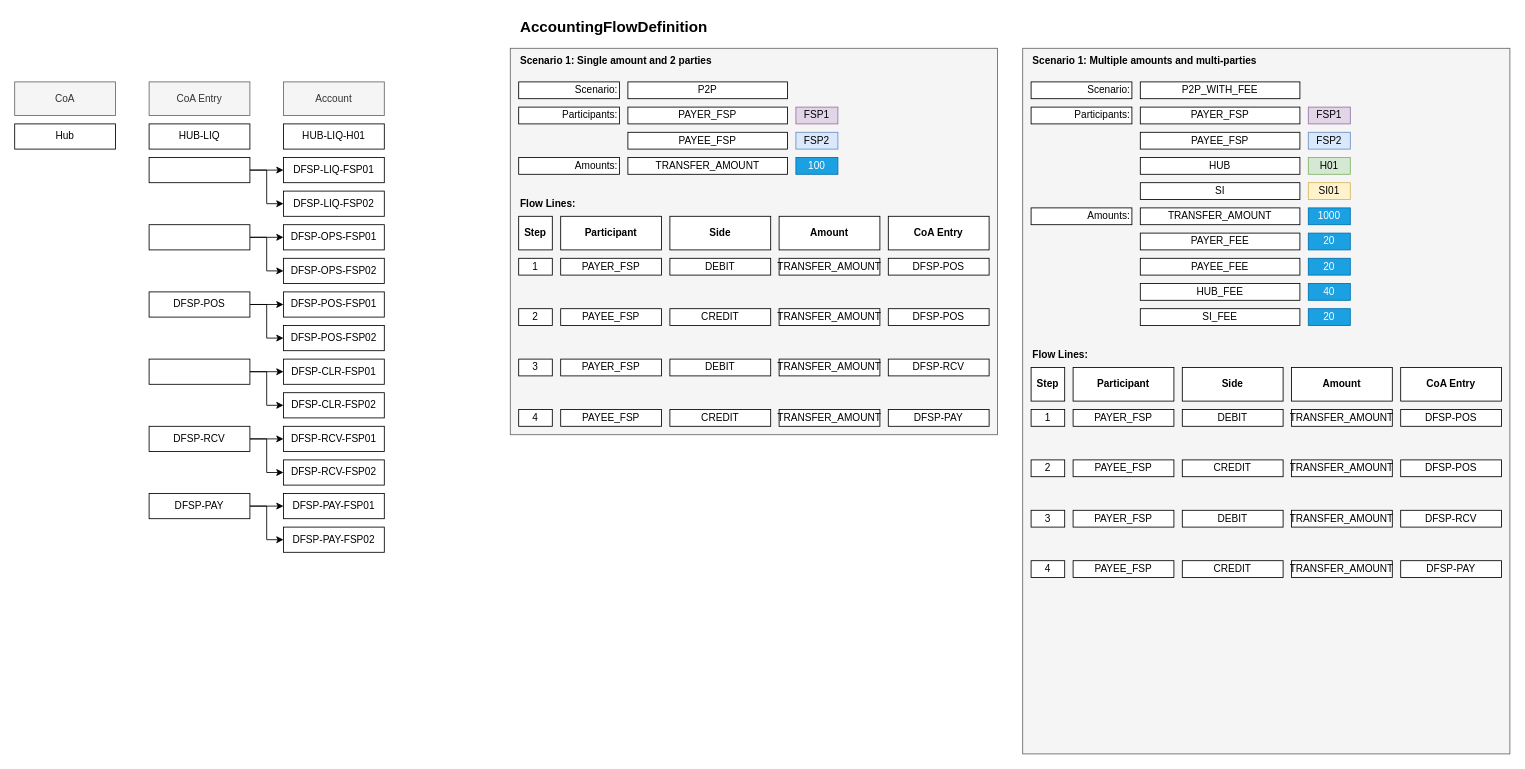
Image size: 1525x769. Some labels were removed from this diagram. Here are the shapes that lost their labels. From the top down, the centre of each, then its label:
the point at 199,170: DFSP-LIQ
the point at 199,237: DFSP-OPS
the point at 199,371: DFSP-CLR
